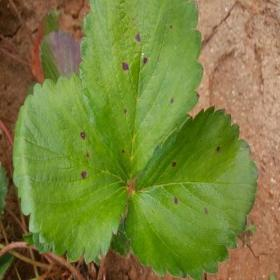Leaf Spot: (123, 104, 259, 279), (78, 0, 204, 184), (12, 71, 132, 264)
